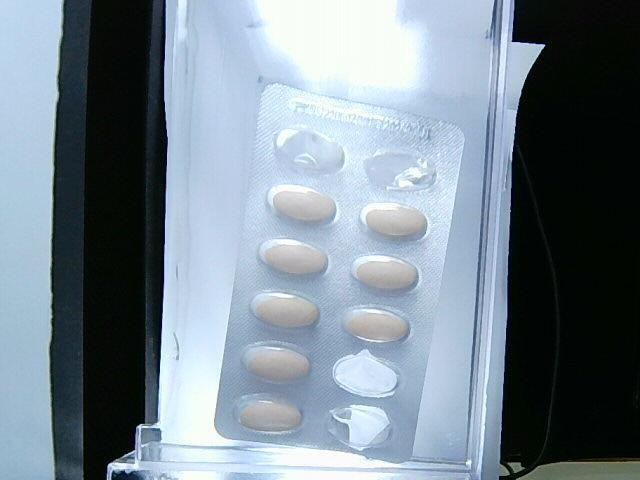Light Front: (214, 83, 466, 466)
No Pill Front: (333, 349, 398, 397), (275, 129, 345, 173), (329, 404, 391, 450), (365, 151, 436, 190)
Pill Front: (243, 341, 310, 384), (268, 184, 338, 223), (235, 394, 302, 433), (259, 238, 329, 274), (250, 291, 320, 327), (343, 305, 410, 342), (360, 203, 427, 238), (351, 255, 418, 290)
